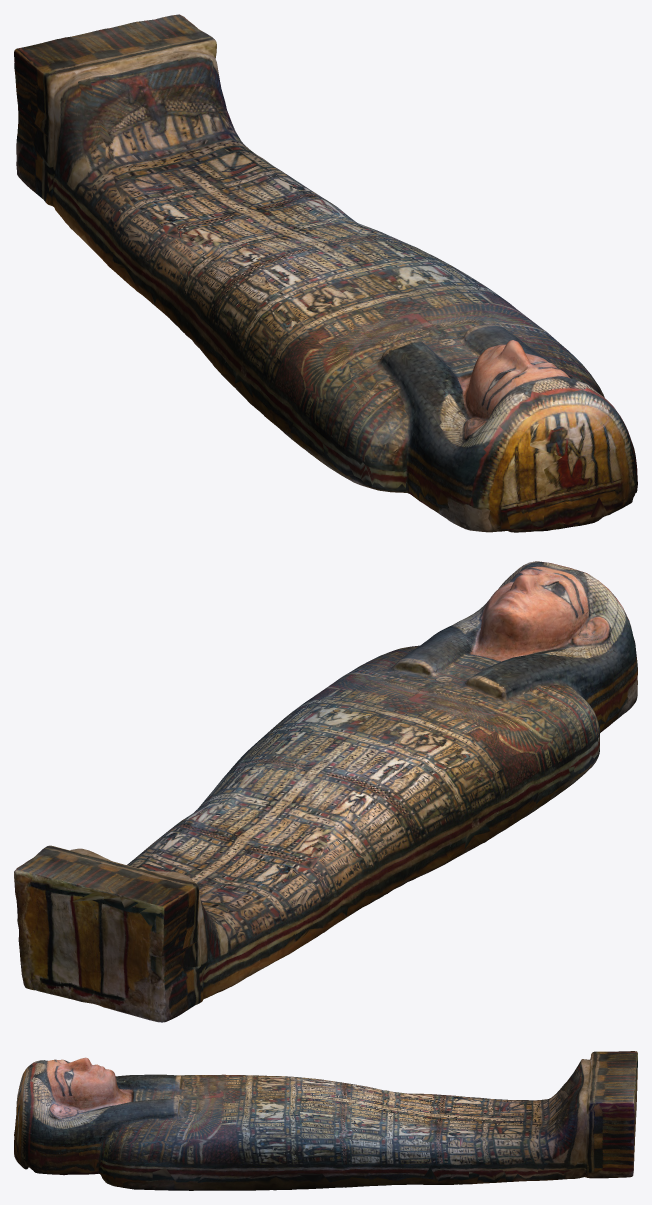
Rendered from sarcophagus-smalltop.gltf.
3 renders of one model, top to bottom at view 1: azimuth 30°, elevation 25°; view 2: azimuth 150°, elevation 25°; view 3: azimuth 270°, elevation 25°, orthographic. The views are drawn at different scales.
Parts seen in each view (by area): view 1: sarcophagus-smalltop; view 2: sarcophagus-smalltop; view 3: sarcophagus-smalltop.
Part boxes in pixels (x1,y1,x2,y2): sarcophagus-smalltop: [14, 14, 637, 532]; sarcophagus-smalltop: [14, 561, 637, 1022]; sarcophagus-smalltop: [14, 1051, 637, 1190].
Bounding box in the file's own units: 0.534 × 0.299 × 1.81.
Materials: 1 (1 with a texture image).
